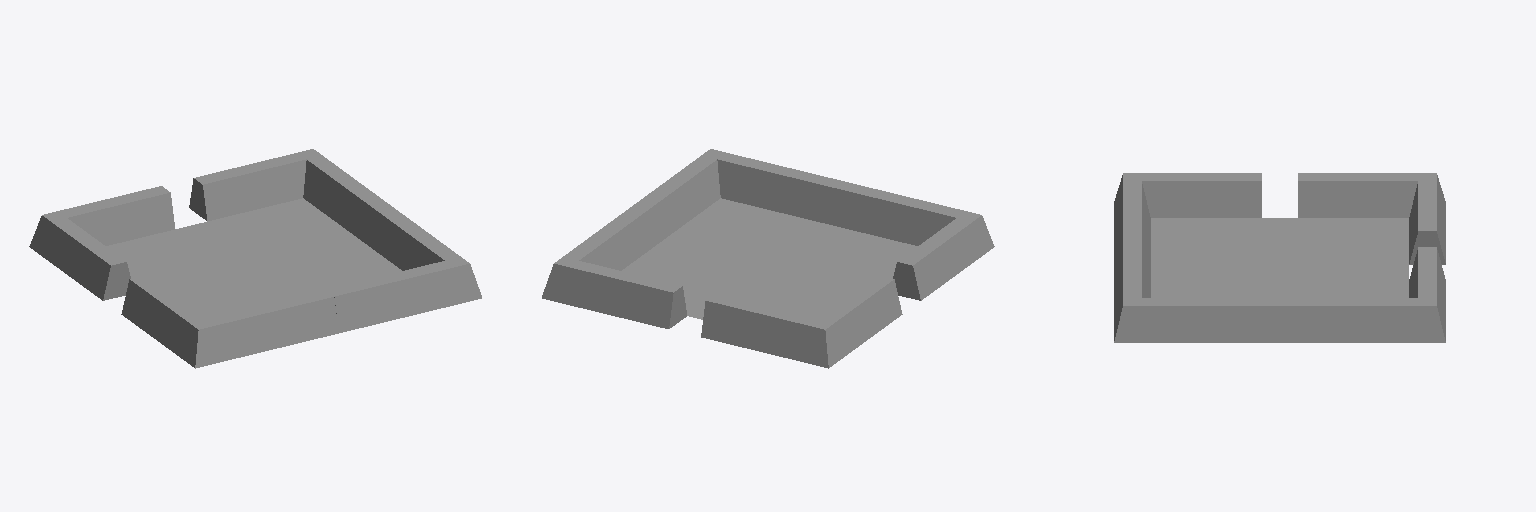
Rendered from sala_05.obj.
The picture shows the model from 3 angles: view 1: azimuth 30°, elevation 25°; view 2: azimuth 150°, elevation 25°; view 3: azimuth 270°, elevation 25°; orthographic projection.
Parts seen in each view (by area): view 1: Ground_Plane, Wall.003_Cube.010, Wall.001_Cube.012, Wall.004_Cube.015, Wall.007_Cube.017, Wall.006_Cube.016, Wall.000_Cube.011, Wall.005_Cube.002, Wall.002_Cube.014; view 2: Ground_Plane, Wall.004_Cube.015, Wall.006_Cube.016, Wall.003_Cube.010, Wall.001_Cube.012, Wall.000_Cube.011, Wall.007_Cube.017, Wall.002_Cube.014, Wall.005_Cube.002; view 3: Ground_Plane, Wall.005_Cube.002, Wall.002_Cube.014, Wall.000_Cube.011, Wall.007_Cube.017, Wall.006_Cube.016, Wall.001_Cube.012, Wall.003_Cube.010, Wall.004_Cube.015.
Boxes of the visible parts, box(x1,y1,x2,y2) form: Ground_Plane: box(106, 198, 401, 318); Wall.003_Cube.010: box(326, 261, 481, 332); Wall.001_Cube.012: box(195, 290, 338, 368); Wall.004_Cube.015: box(189, 149, 312, 221); Wall.007_Cube.017: box(29, 215, 130, 300); Wall.006_Cube.016: box(44, 186, 174, 245); Wall.000_Cube.011: box(121, 275, 204, 367); Wall.005_Cube.002: box(303, 149, 390, 244); Wall.002_Cube.014: box(368, 206, 468, 270); Ground_Plane: box(622, 198, 917, 319); Wall.004_Cube.015: box(542, 261, 686, 328); Wall.006_Cube.016: box(701, 294, 828, 368); Wall.003_Cube.010: box(711, 149, 845, 224); Wall.001_Cube.012: box(833, 182, 979, 245); Wall.000_Cube.011: box(893, 215, 994, 300); Wall.007_Cube.017: box(819, 275, 902, 367); Wall.002_Cube.014: box(633, 149, 720, 244); Wall.005_Cube.002: box(555, 206, 655, 270); Ground_Plane: box(1151, 218, 1408, 297); Wall.005_Cube.002: box(1280, 298, 1445, 342); Wall.002_Cube.014: box(1114, 298, 1279, 342); Wall.000_Cube.011: box(1124, 173, 1261, 217); Wall.007_Cube.017: box(1298, 173, 1435, 217); Wall.006_Cube.016: box(1409, 173, 1445, 264); Wall.001_Cube.012: box(1114, 173, 1150, 270); Wall.003_Cube.010: box(1114, 239, 1150, 340); Wall.004_Cube.015: box(1409, 247, 1445, 340).
Bounding box in the file's own units: 18 × 2 × 18.